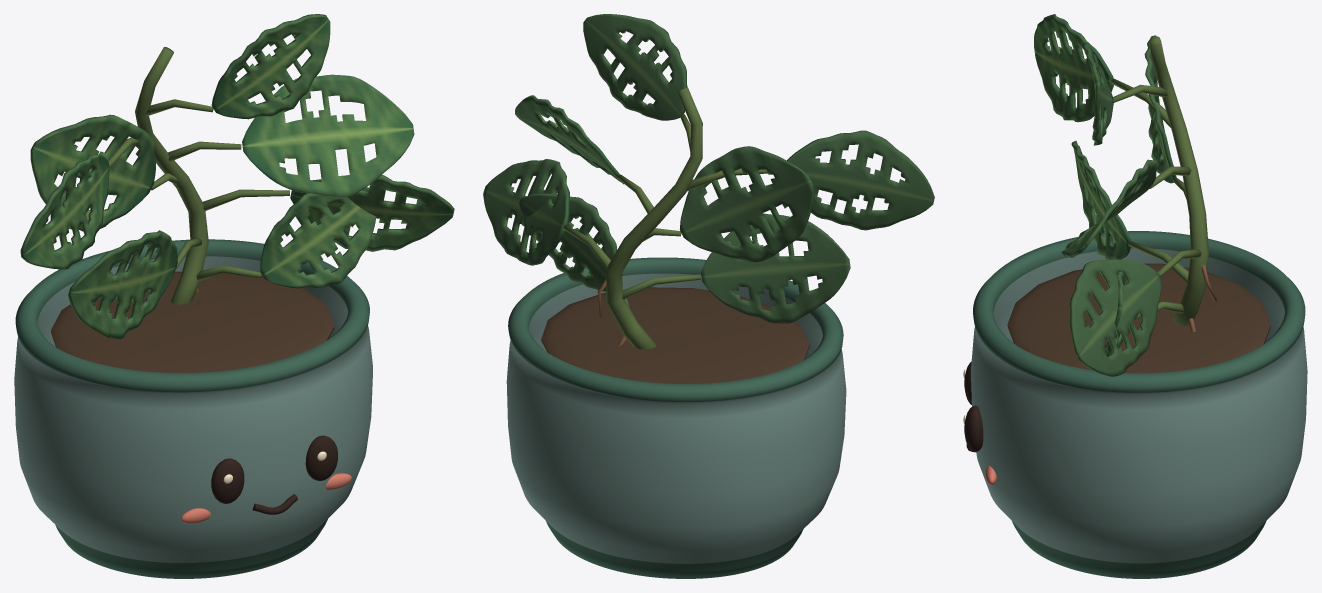
File: swiss-cheese-vine-v1.glb
The picture shows the model from 3 angles, left to right: view 1: azimuth 30°, elevation 25°; view 2: azimuth 150°, elevation 25°; view 3: azimuth 270°, elevation 25°; orthographic projection. The views are drawn at different scales.
Visible parts, largest first — view 1: Wheel-thrown ceramic, Foliage draw mesh, Soil, Eye, Eye.001; view 2: Wheel-thrown ceramic, Foliage draw mesh, Soil; view 3: Wheel-thrown ceramic, Foliage draw mesh, Soil, Eye.001.
Boxes of the visible parts, left/top/right/bottom form: Wheel-thrown ceramic: left=14, top=239, right=372, bottom=578; Foliage draw mesh: left=20, top=14, right=454, bottom=339; Soil: left=51, top=271, right=334, bottom=372; Eye: left=211, top=458, right=244, bottom=503; Eye.001: left=305, top=435, right=337, bottom=480; Wheel-thrown ceramic: left=506, top=257, right=846, bottom=578; Foliage draw mesh: left=483, top=14, right=934, bottom=349; Soil: left=541, top=287, right=809, bottom=383; Wheel-thrown ceramic: left=971, top=231, right=1307, bottom=578; Foliage draw mesh: left=1034, top=14, right=1216, bottom=376; Soil: left=1007, top=263, right=1270, bottom=373; Eye.001: left=964, top=405, right=983, bottom=452.
Bounding box in the file's own units: 2.33 × 2.49 × 1.53.
